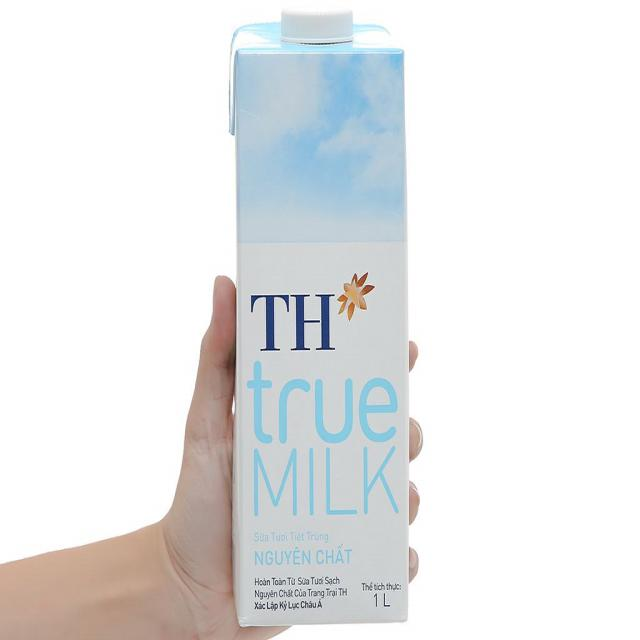non_white_jug: (209, 0, 417, 631)
